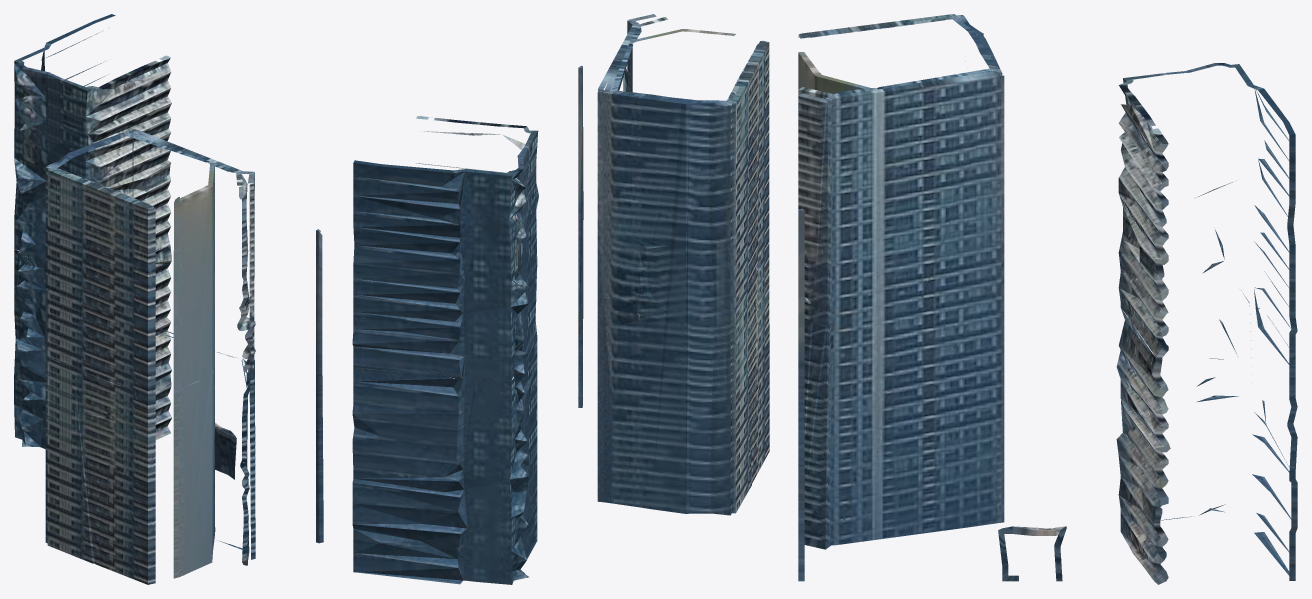
File: chunk_9_-2.glb
The picture shows the model from 3 angles, left to right: view 1: azimuth 30°, elevation 25°; view 2: azimuth 150°, elevation 25°; view 3: azimuth 270°, elevation 25°; orthographic projection. The views are drawn at different scales.
Parts seen in each view (by area): view 1: hero-chunk; view 2: hero-chunk; view 3: hero-chunk.
Part boxes in pixels (x1,y1,x2,y2): hero-chunk: (14, 14, 323, 584); hero-chunk: (352, 14, 769, 584); hero-chunk: (798, 14, 1297, 584).
Bounding box in the file's own units: 43.11 × 74.8 × 73.86.
2 materials, 2 textured.
